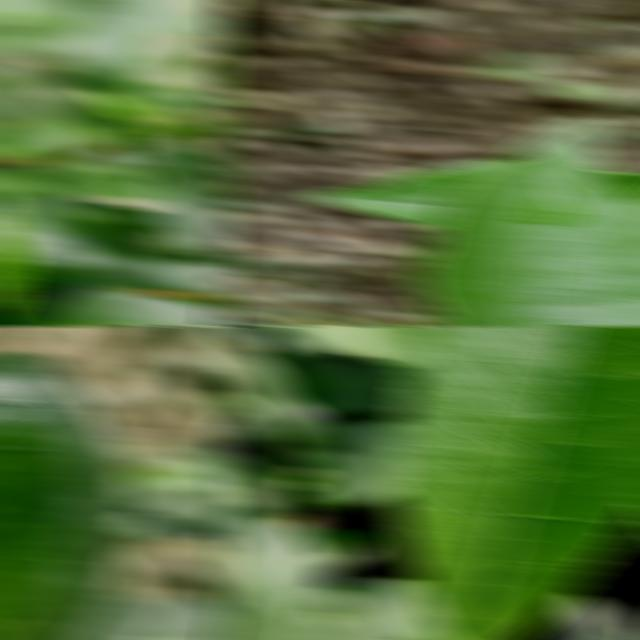Leaf: (387, 326, 640, 640), (413, 117, 640, 326), (15, 352, 135, 640), (0, 352, 81, 640), (56, 0, 222, 114), (124, 129, 233, 270), (215, 336, 326, 470), (215, 518, 335, 640), (310, 160, 505, 228), (115, 440, 233, 542), (0, 190, 98, 311), (294, 418, 408, 506), (215, 484, 283, 626), (307, 576, 438, 640), (3, 289, 228, 326), (263, 326, 438, 367), (309, 358, 420, 422), (121, 595, 233, 640), (296, 525, 382, 571), (557, 592, 639, 640), (73, 94, 124, 129), (215, 391, 260, 428)
